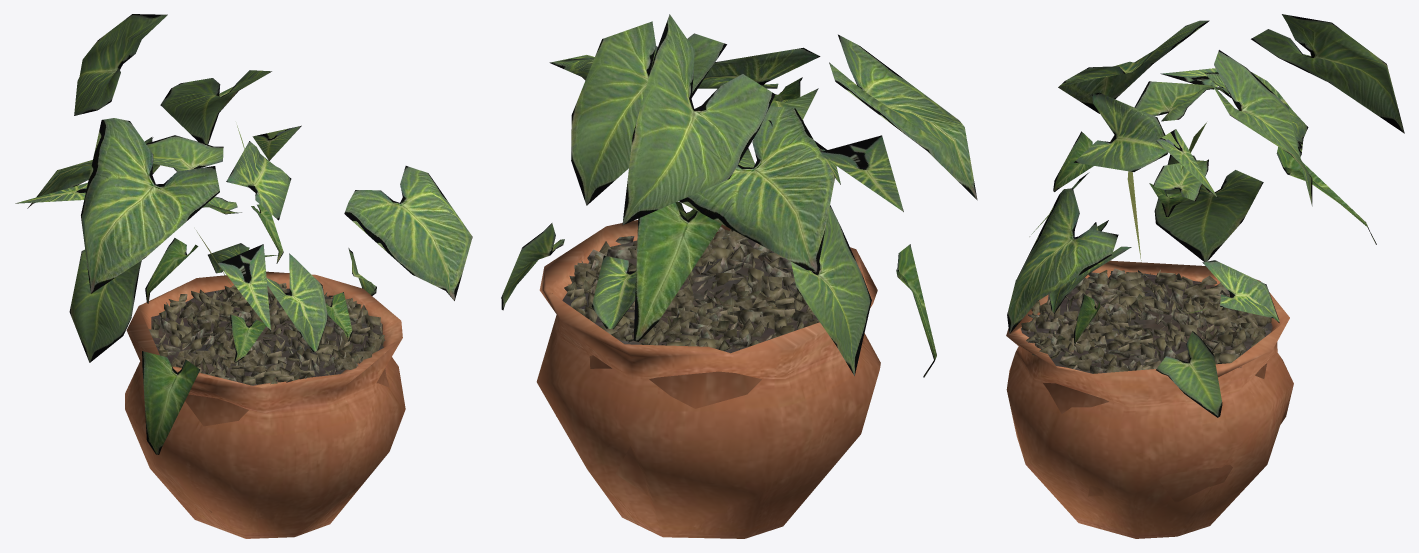
File: potted_plant_02.gltf
3 renders of one model, left to right at view 1: azimuth 30°, elevation 25°; view 2: azimuth 150°, elevation 25°; view 3: azimuth 270°, elevation 25°, orthographic. The views are drawn at different scales.
Visible parts, largest first — view 1: potted_plant_02_leaves, potted_plant_02_pot, potted_plant_02_dirt; view 2: potted_plant_02_leaves, potted_plant_02_pot, potted_plant_02_dirt; view 3: potted_plant_02_leaves, potted_plant_02_pot, potted_plant_02_dirt.
Part boxes in pixels (x1,y1,x2,y2): potted_plant_02_leaves: (15,14,472,454); potted_plant_02_pot: (125,271,405,538); potted_plant_02_dirt: (149,283,385,385); potted_plant_02_leaves: (501,14,977,377); potted_plant_02_pot: (536,220,880,538); potted_plant_02_dirt: (562,227,819,353); potted_plant_02_leaves: (1007,14,1404,417); potted_plant_02_pot: (1006,260,1293,538); potted_plant_02_dirt: (1020,268,1272,373).
Bounding box in the file's own units: 0.6969 × 0.8395 × 0.6375.
Materials: 2 (2 with a texture image).
